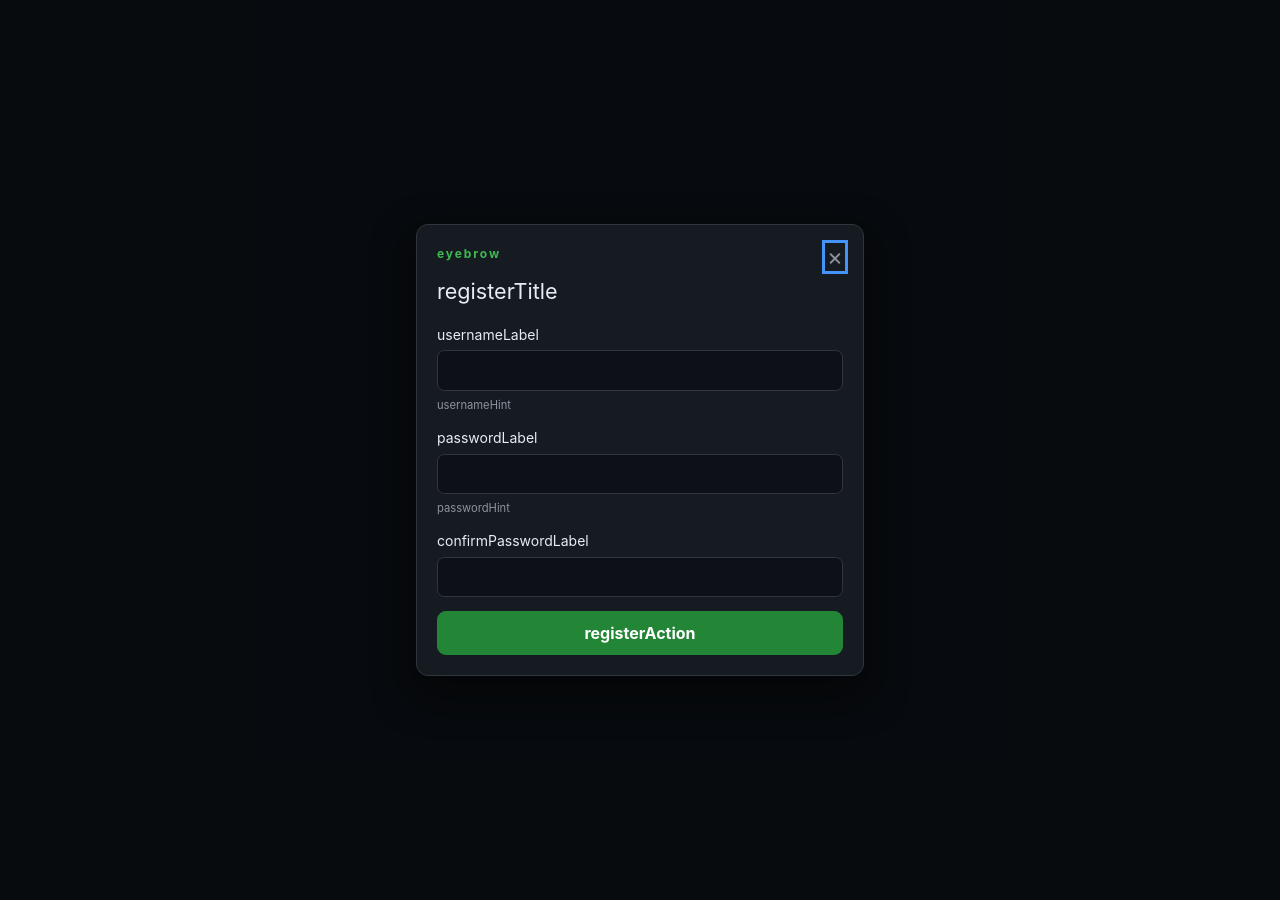
Scenario: account-modal credentials › validates registration fields before submit
Click the button "registerAction": coordinates (640, 633) [437,611,843,655]
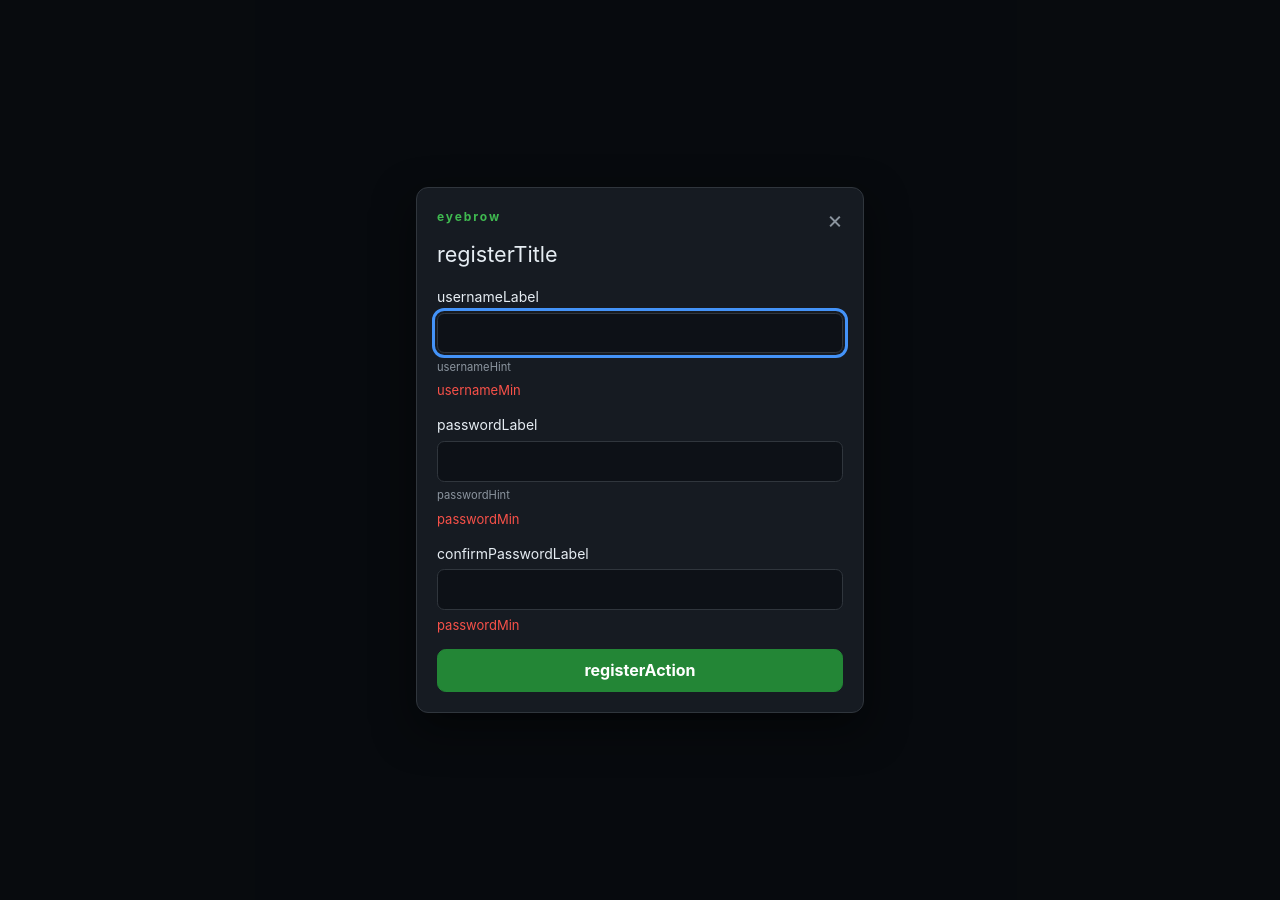
expect the text "usernameMin" is shown: met, box [437,382,521,398]
